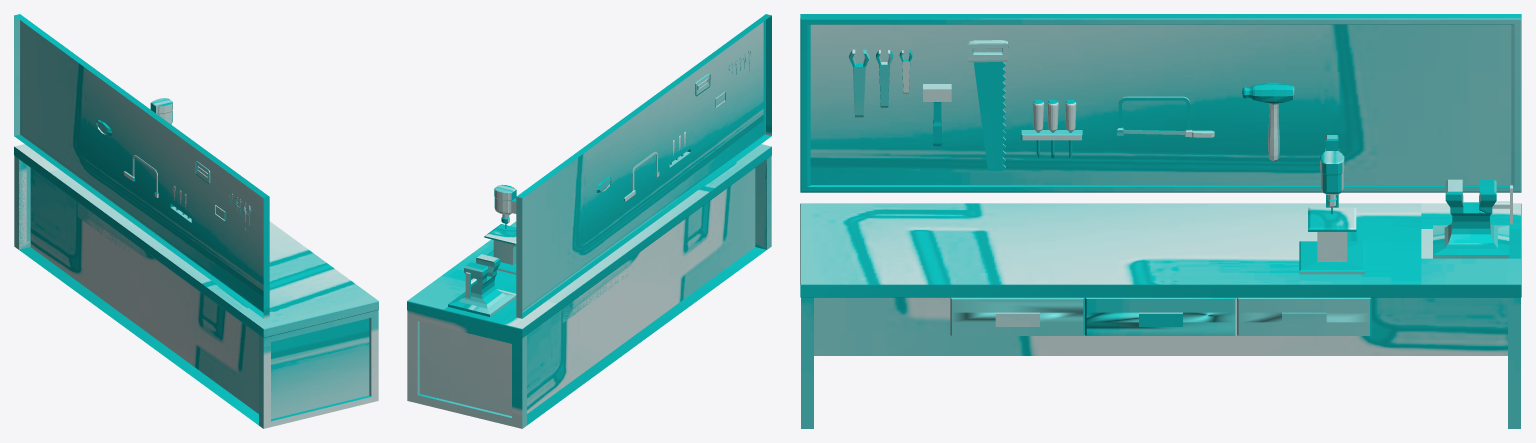
File: верстак.fbx
The picture shows the model from 3 angles, left to right: view 1: azimuth 30°, elevation 25°; view 2: azimuth 150°, elevation 25°; view 3: azimuth 270°, elevation 25°; orthographic projection. The views are drawn at different scales.
Parts seen in each view (by area): view 1: Object_TexMap_0; view 2: Object_TexMap_0; view 3: Object_TexMap_0.
Part boxes in pixels (<box>): Object_TexMap_0: <box>14,14,378,428</box>; Object_TexMap_0: <box>407,14,771,428</box>; Object_TexMap_0: <box>800,14,1521,428</box>.
Size of the model in its own units: 123 by 225 by 440.
